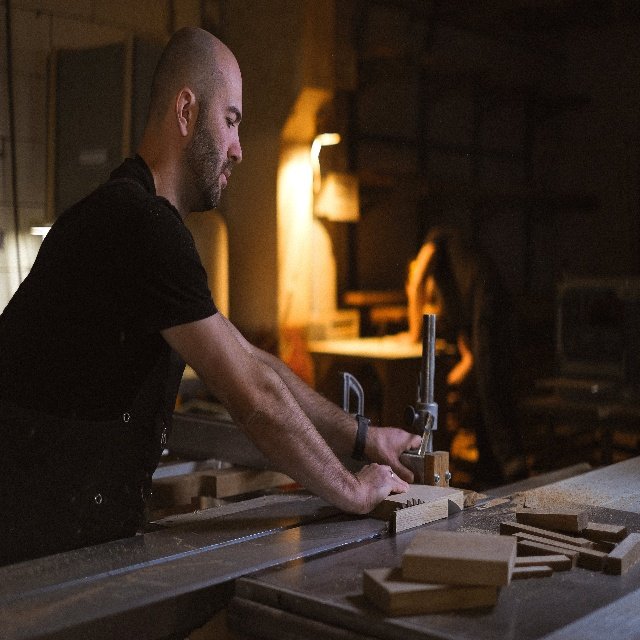Sin_guantes: (348, 458, 410, 516), (373, 420, 422, 481)
